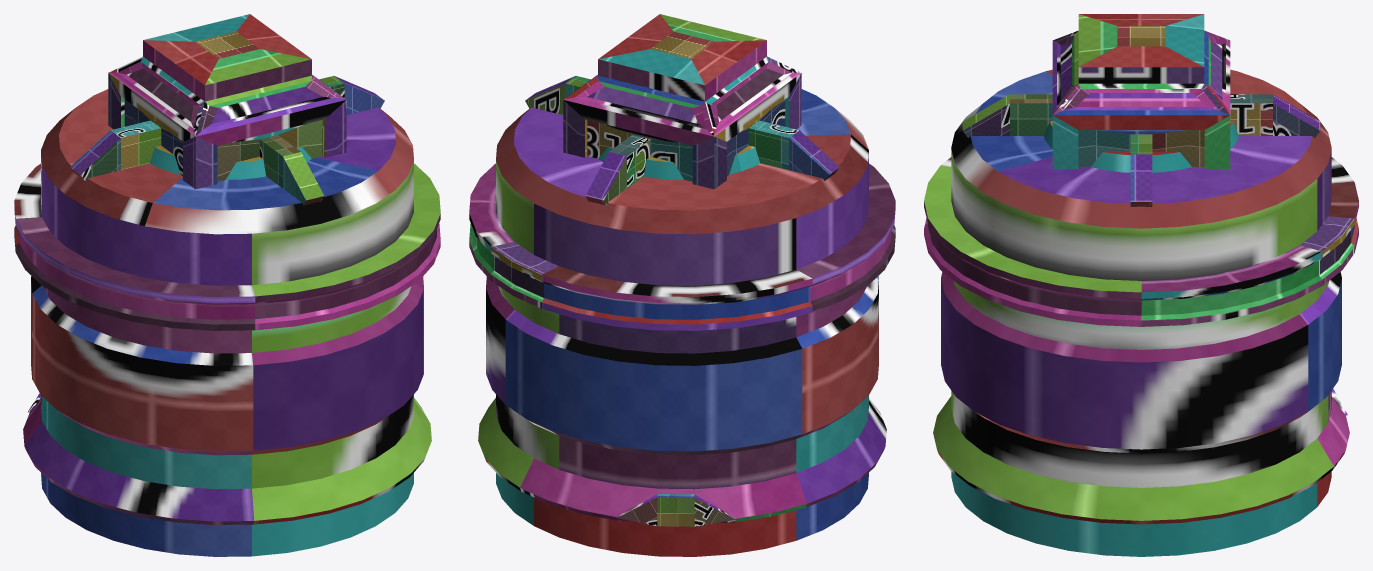
The model's file is cyl1.glb.
3 views of the same model, side by side, from view 1: azimuth 30°, elevation 25°; view 2: azimuth 150°, elevation 25°; view 3: azimuth 270°, elevation 25° (orthographic).
Visible parts, largest first — view 1: Cylinder; view 2: Cylinder; view 3: Cylinder.
Part boxes in pixels (x1,y1,x2,y2): Cylinder: [14, 14, 440, 556]; Cylinder: [469, 14, 895, 556]; Cylinder: [924, 14, 1358, 556].
Size of the model in its own units: 2.29 by 2.55 by 2.29.
1 material, 1 textured.
